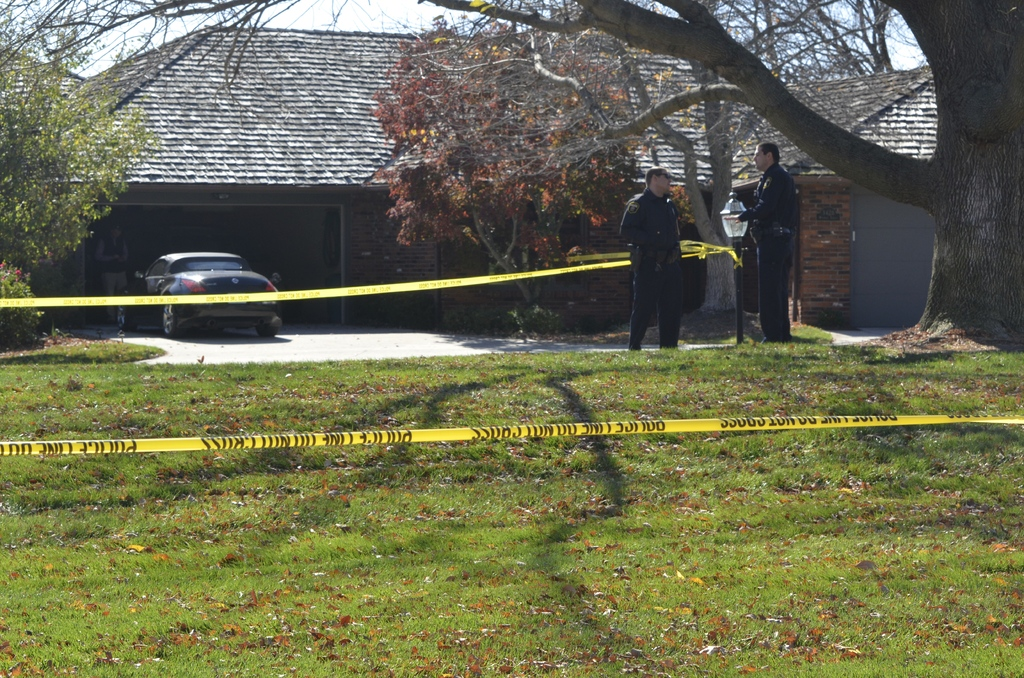Tree: (0, 0, 1023, 345), (363, 10, 695, 330), (6, 30, 165, 296), (625, 0, 894, 85)
